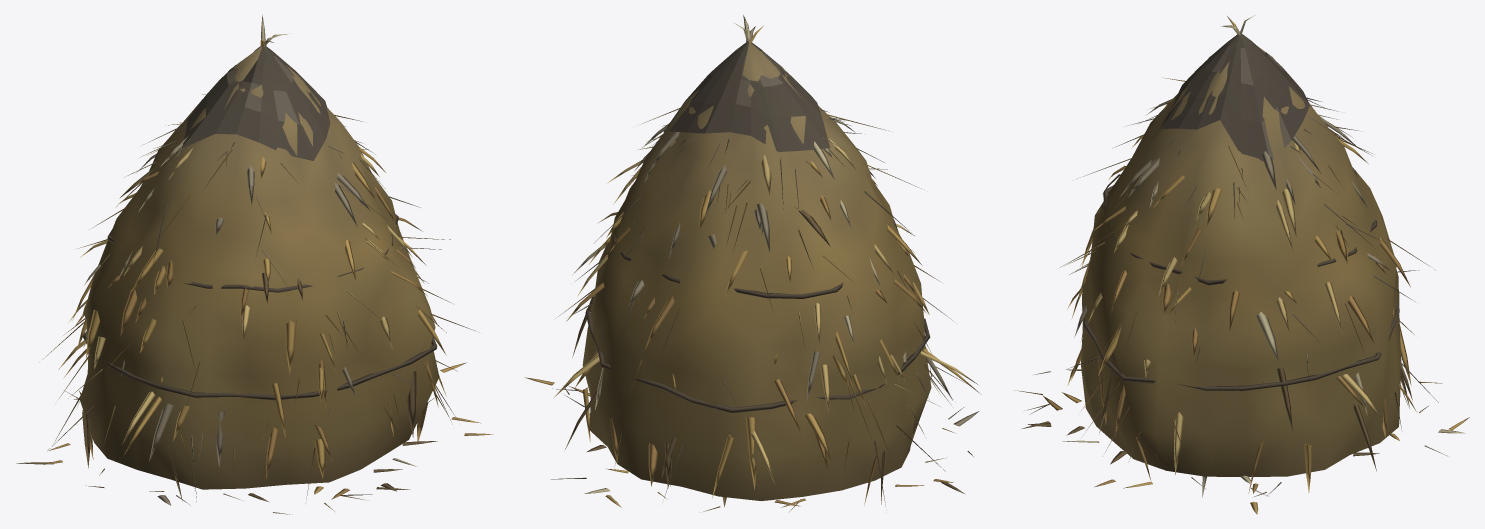
Rendered from haystack_cone_v2.glb.
The picture shows the model from 3 angles, left to right: view 1: azimuth 30°, elevation 25°; view 2: azimuth 150°, elevation 25°; view 3: azimuth 270°, elevation 25°; orthographic projection.
Visible parts, largest first — view 1: hb_thatch; view 2: hb_thatch; view 3: hb_thatch.
Part boxes in pixels (x1,y1,x2,y2): hb_thatch: [16, 15, 493, 514]; hb_thatch: [524, 15, 981, 511]; hb_thatch: [1015, 15, 1469, 514].
Size of the model in its own units: 5.74 by 5.35 by 5.12.
